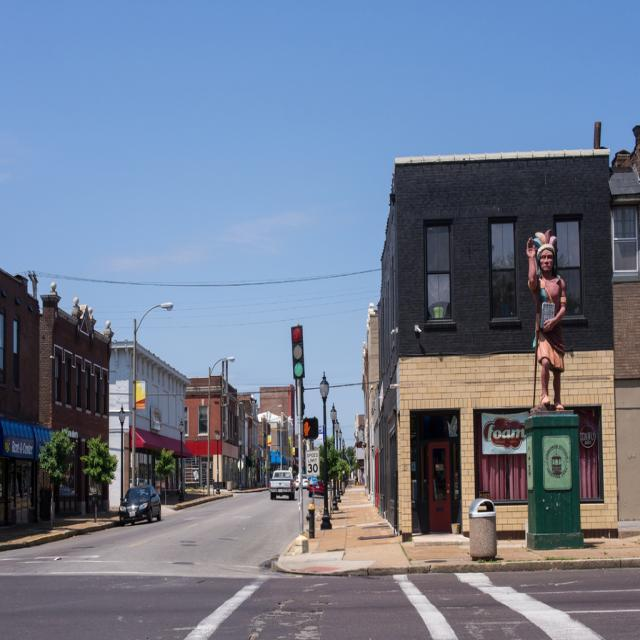traffic light: (291, 327, 305, 376)
